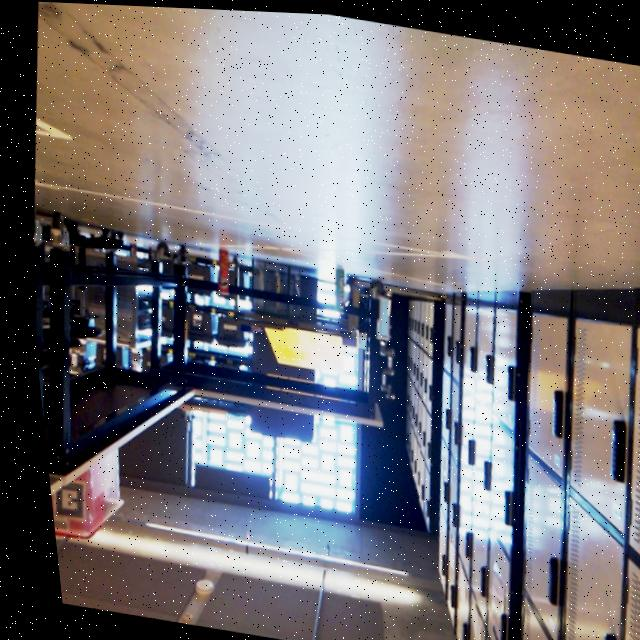greenpringles: (306, 254, 348, 316)
redpringles: (203, 244, 230, 295)
